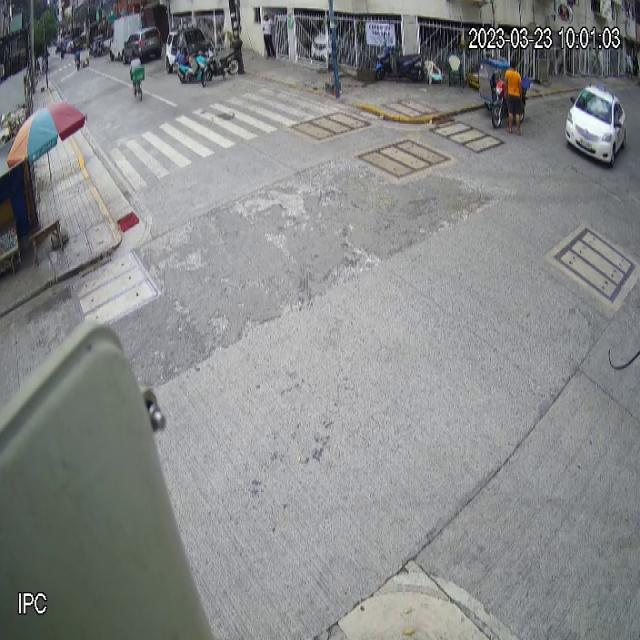Car: (564, 81, 628, 168)
